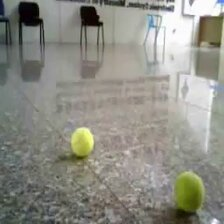tennis: (174, 172, 204, 213), (71, 128, 94, 157)
